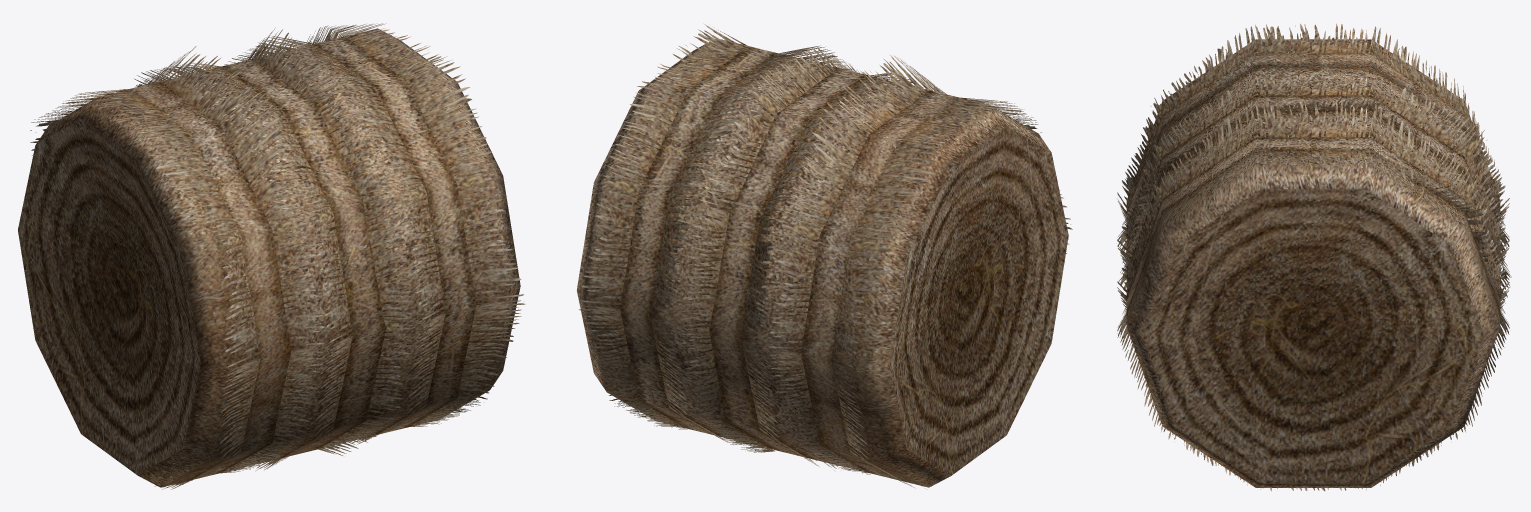
File: ARC0710081.fbx
The picture shows the model from 3 angles, left to right: view 1: azimuth 30°, elevation 25°; view 2: azimuth 150°, elevation 25°; view 3: azimuth 270°, elevation 25°; orthographic projection. The views are drawn at different scales.
Visible parts, largest first — view 1: smARC0710081; view 2: smARC0710081; view 3: smARC0710081.
Part boxes in pixels (x1,y1,x2,y2): smARC0710081: (18,23,525,489); smARC0710081: (576,23,1072,489); smARC0710081: (1117,23,1511,491).
Bounding box in the file's own units: 66.29 × 73.17 × 71.92.
1 material, 1 textured.
